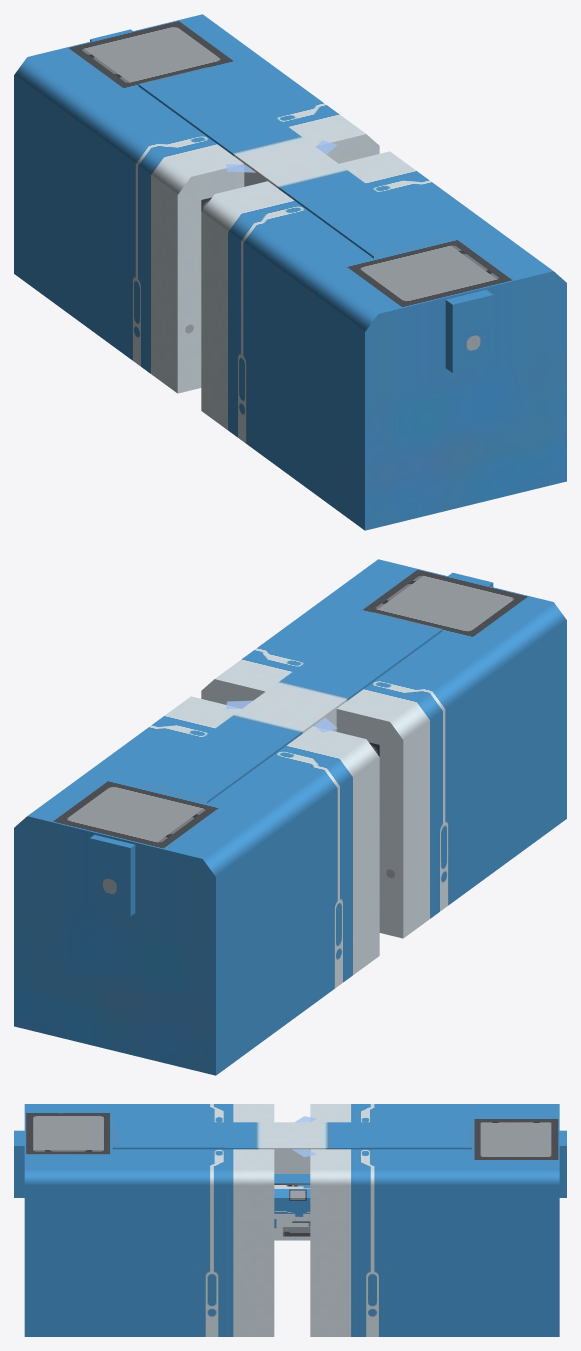
The model's file is sorter-mk3.glb.
3 renders of one model, top to bottom at view 1: azimuth 30°, elevation 25°; view 2: azimuth 150°, elevation 25°; view 3: azimuth 270°, elevation 25°, orthographic. The views are drawn at different scales.
Visible parts, largest first — view 1: BRail, ARail, BCap; view 2: ARail, BRail, ACap; view 3: BRail, ARail, grabberLoaded, BCap, ACap, grabber.
Part boxes in pixels (box(x1,y1,x2,y2)): BRail: box(201, 151, 566, 530); ARail: box(14, 14, 379, 393); BCap: box(445, 289, 493, 372); ARail: box(14, 696, 379, 1075); BRail: box(201, 559, 566, 938); ACap: box(90, 834, 135, 916); BRail: box(24, 1104, 297, 1336); ARail: box(287, 1104, 559, 1336); grabberLoaded: box(274, 1185, 310, 1240); BCap: box(14, 1130, 24, 1197); ACap: box(559, 1130, 566, 1197); grabber: box(274, 1174, 310, 1184).
Size of what is drawn, in the model's own units: 0.99 by 1.01 by 3.08.
Materials: 2 (2 with a texture image).
